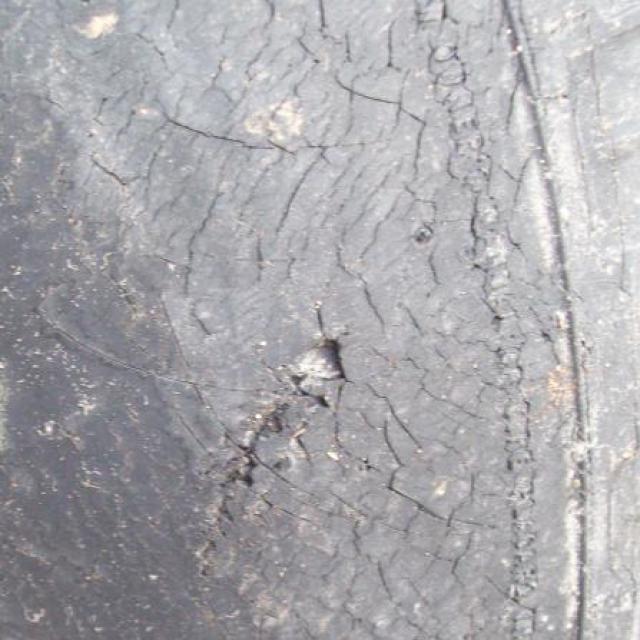Cracks: (0, 0, 597, 639)
